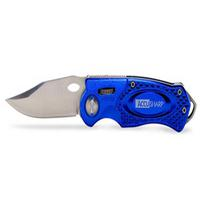knife: (3, 72, 198, 131)
